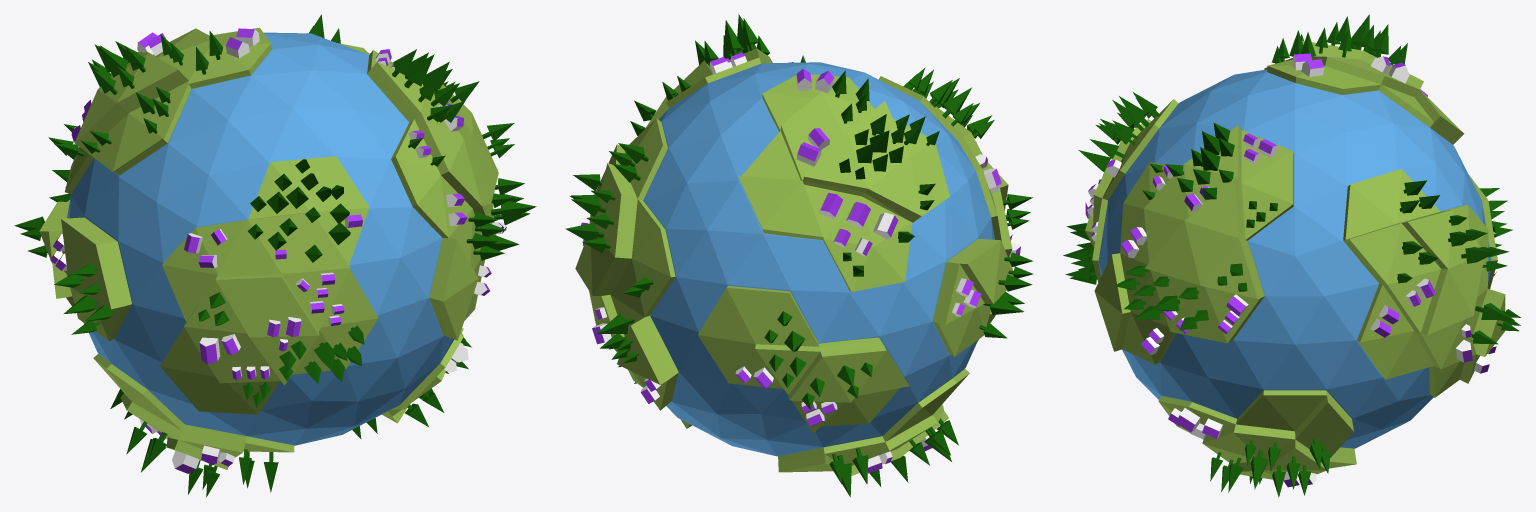
3 renders of one model, left to right at view 1: azimuth 30°, elevation 25°; view 2: azimuth 150°, elevation 25°; view 3: azimuth 270°, elevation 25°, orthographic. The views are drawn at different scales.
Parts seen in each view (by area): view 1: Icokugel, Icokugel.001; view 2: Icokugel, Icokugel.001; view 3: Icokugel, Icokugel.001.
Boxes of the visible parts, x1,y1,x2,y2 form: Icokugel: (39,27,498,469); Icokugel.001: (67,32,454,445); Icokugel: (575,48,1013,475); Icokugel.001: (643,62,994,456); Icokugel: (1085,40,1505,479); Icokugel.001: (1098,69,1491,448).
Size of the model in its own units: 2.54 by 2.45 by 2.44.
